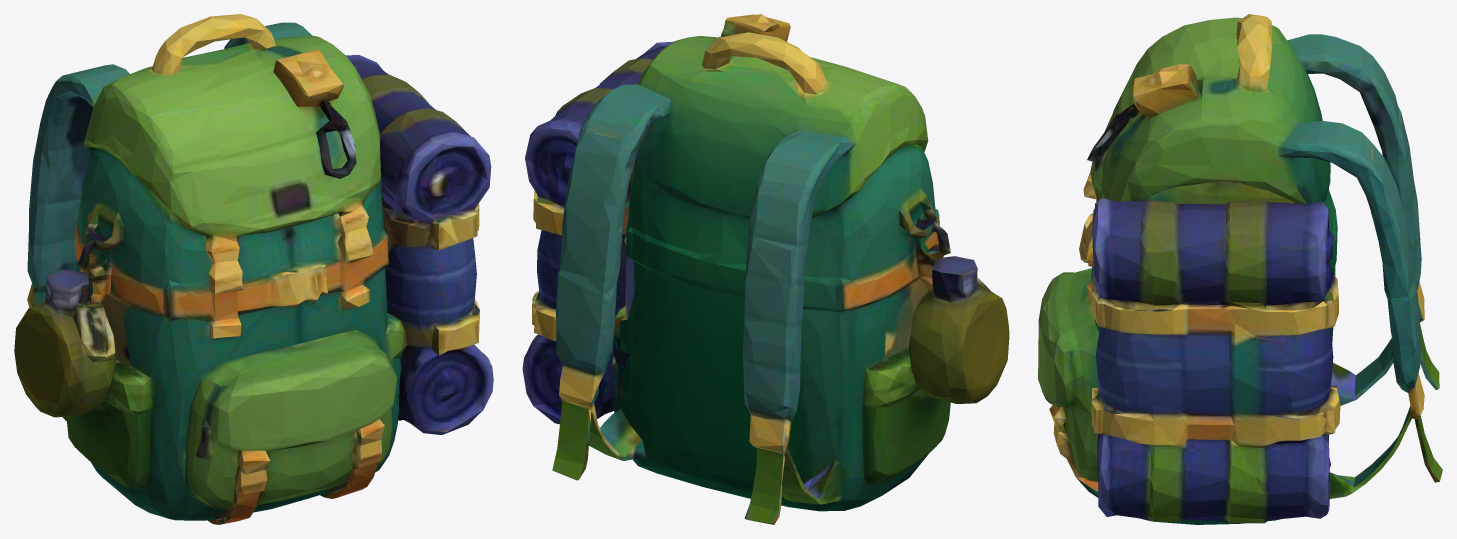
The model's file is backpack.glb.
3 renders of one model, left to right at view 1: azimuth 30°, elevation 25°; view 2: azimuth 150°, elevation 25°; view 3: azimuth 270°, elevation 25°, orthographic.
Visible parts, largest first — view 1: tmp1bxgt3u6.ply; view 2: tmp1bxgt3u6.ply; view 3: tmp1bxgt3u6.ply.
Part boxes in pixels (x1,y1,x2,y2): tmp1bxgt3u6.ply: [14, 14, 493, 524]; tmp1bxgt3u6.ply: [522, 14, 1009, 524]; tmp1bxgt3u6.ply: [1038, 14, 1442, 524].
Bounding box in the file's own units: 1.92 × 2 × 1.61.
1 material, 1 textured.
